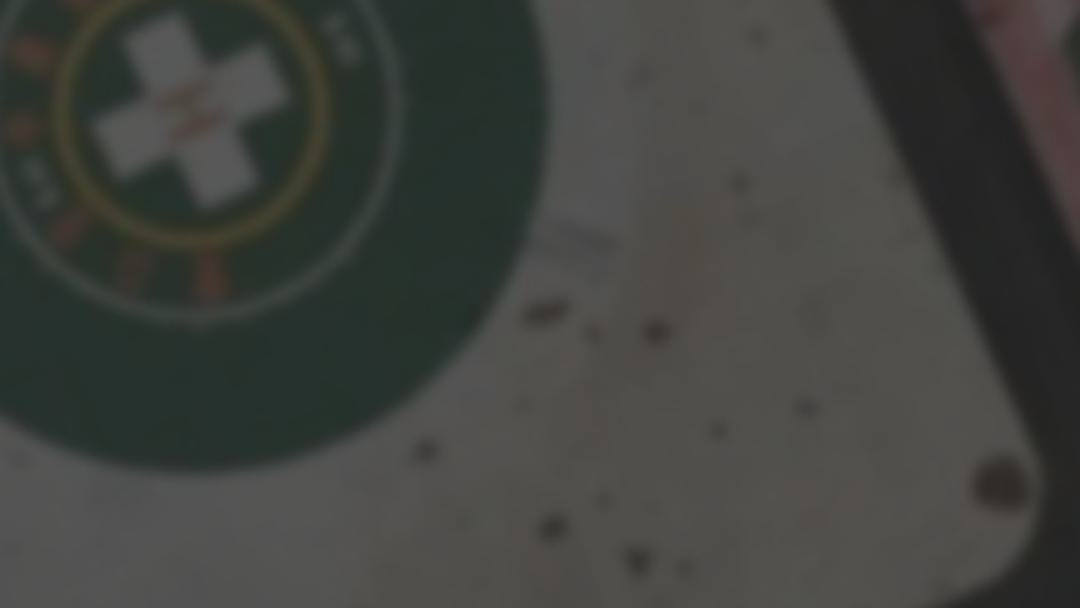Apron: (100, 32, 299, 219)
